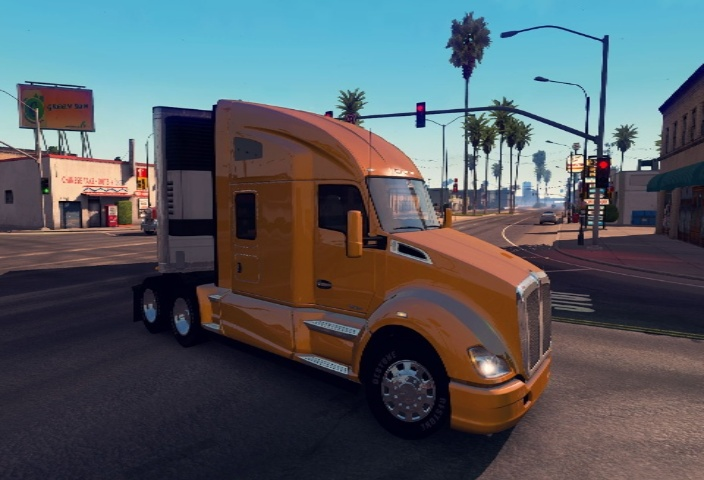truck: (92, 86, 586, 442)
